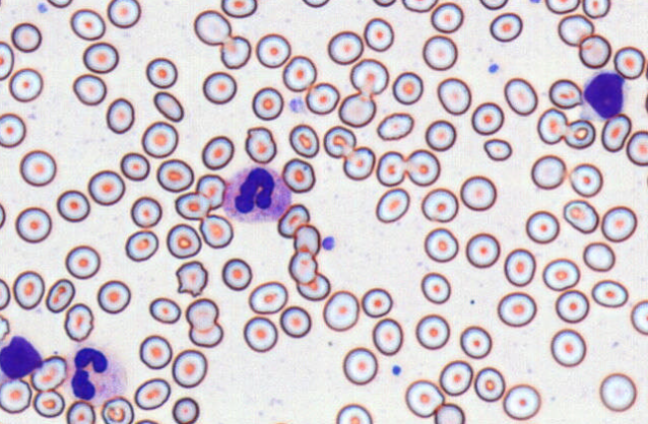GRAN: (225, 162, 292, 226), (67, 342, 128, 402)
MONO: (577, 70, 629, 120), (0, 333, 46, 380)
PLT: (322, 236, 336, 251), (488, 63, 502, 77), (392, 364, 404, 376), (37, 2, 48, 15)
RBC: (404, 379, 444, 418), (599, 372, 637, 412), (322, 290, 359, 331), (502, 383, 541, 420), (349, 58, 389, 94), (171, 348, 207, 388), (141, 120, 178, 158), (497, 291, 536, 327), (550, 328, 586, 367), (19, 149, 56, 186), (193, 9, 231, 45), (338, 91, 376, 127), (87, 169, 125, 205), (342, 346, 377, 385), (30, 355, 67, 391), (15, 206, 51, 243), (459, 175, 496, 211), (601, 205, 637, 242), (436, 77, 471, 115), (248, 280, 287, 314), (255, 32, 291, 68), (421, 187, 458, 222), (406, 148, 440, 186), (503, 77, 537, 115), (156, 158, 194, 192), (542, 257, 580, 291), (530, 154, 566, 189), (422, 34, 457, 70), (465, 232, 500, 268), (415, 313, 450, 349), (562, 199, 599, 233), (12, 270, 44, 309), (423, 227, 458, 262), (166, 223, 201, 258), (8, 67, 43, 102), (65, 244, 100, 279), (375, 187, 409, 223), (243, 316, 277, 352), (282, 55, 316, 91), (327, 30, 363, 64), (439, 360, 473, 396), (281, 157, 315, 193), (557, 13, 594, 46), (503, 248, 535, 286), (244, 126, 276, 164), (63, 302, 94, 341), (600, 113, 631, 152), (96, 279, 130, 314), (138, 334, 172, 369), (569, 162, 603, 197), (134, 377, 170, 410), (372, 317, 403, 355), (199, 214, 233, 248), (305, 81, 339, 115), (555, 289, 589, 323), (342, 145, 375, 180), (277, 203, 310, 238), (201, 135, 234, 170), (578, 33, 611, 68), (473, 366, 505, 402), (0, 378, 32, 414), (82, 41, 118, 73), (536, 107, 567, 144), (185, 297, 219, 330), (471, 101, 504, 135), (525, 210, 559, 243), (56, 189, 90, 222), (202, 71, 236, 104), (219, 34, 251, 69), (70, 8, 105, 40), (195, 173, 226, 209), (376, 111, 414, 140), (323, 125, 356, 158), (459, 325, 492, 358), (124, 229, 158, 261), (72, 73, 106, 105), (251, 86, 283, 120), (613, 45, 645, 79), (591, 279, 628, 308), (105, 97, 134, 134), (279, 305, 311, 338), (430, 1, 463, 33), (221, 257, 252, 291), (288, 123, 319, 157), (548, 78, 582, 109), (363, 17, 394, 51), (45, 278, 75, 313), (376, 150, 405, 186), (174, 191, 210, 220), (424, 119, 456, 151), (130, 196, 162, 228), (582, 241, 615, 272), (392, 71, 423, 104), (296, 271, 330, 301), (153, 90, 184, 122), (145, 57, 177, 88), (420, 271, 450, 304), (489, 12, 522, 42), (106, 0, 141, 28), (564, 118, 595, 149), (288, 250, 317, 283), (32, 389, 65, 418), (361, 287, 392, 317), (10, 22, 41, 52), (292, 223, 320, 256), (148, 296, 181, 324), (100, 396, 134, 423), (120, 151, 150, 181), (188, 322, 223, 347), (0, 112, 25, 147), (626, 129, 647, 166), (171, 396, 199, 423), (335, 403, 372, 423), (433, 402, 465, 423), (66, 400, 95, 423), (221, 0, 257, 18), (630, 299, 647, 335), (0, 40, 14, 80), (582, 0, 610, 18), (544, 0, 579, 14), (401, 0, 437, 12), (0, 278, 10, 310), (479, 0, 508, 10), (0, 314, 10, 342), (301, 0, 329, 8), (47, 0, 72, 8), (372, 0, 396, 7), (0, 201, 6, 228), (133, 418, 160, 424), (268, 420, 295, 424), (644, 88, 648, 114), (645, 57, 648, 81)
Schistocyte: (175, 261, 211, 298), (484, 137, 513, 162)
